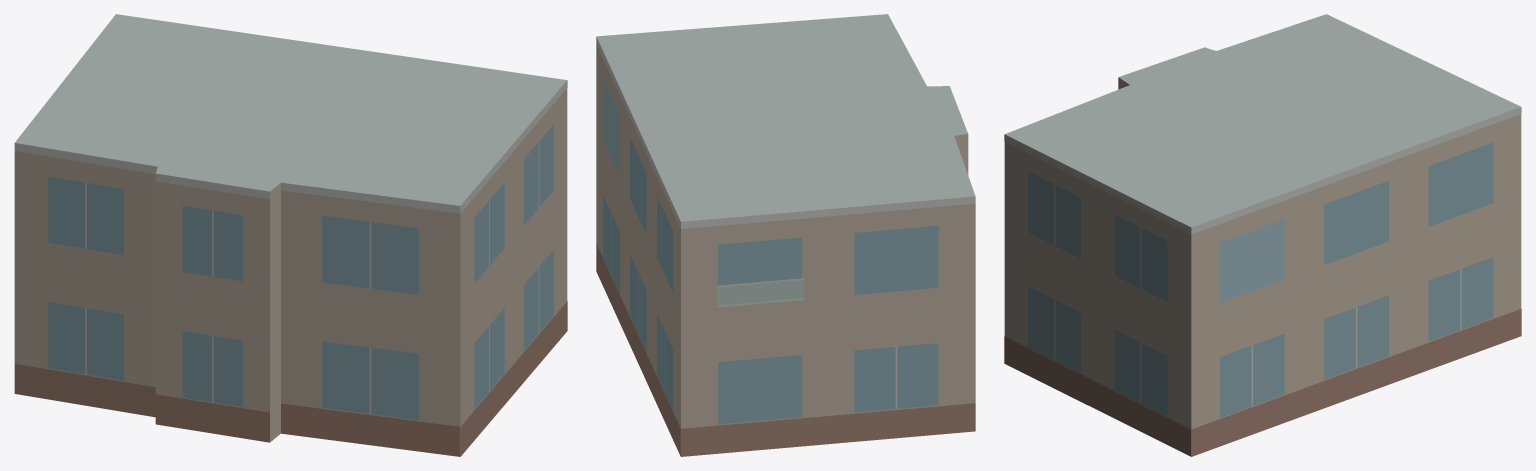
File: survey-upis-32976725.glb
The picture shows the model from 3 angles, left to right: view 1: azimuth 30°, elevation 25°; view 2: azimuth 150°, elevation 25°; view 3: azimuth 270°, elevation 25°; orthographic projection. The views are drawn at different scales.
Parts seen in each view (by area): view 1: survey-upis-32976725.tmp; view 2: survey-upis-32976725.tmp; view 3: survey-upis-32976725.tmp.
Boxes of the visible parts, x1,y1,x2,y2 form: survey-upis-32976725.tmp: [14, 14, 567, 456]; survey-upis-32976725.tmp: [596, 14, 975, 456]; survey-upis-32976725.tmp: [1004, 14, 1521, 456].
Bounding box in the file's own units: 15.79 × 7.9 × 16.15.
